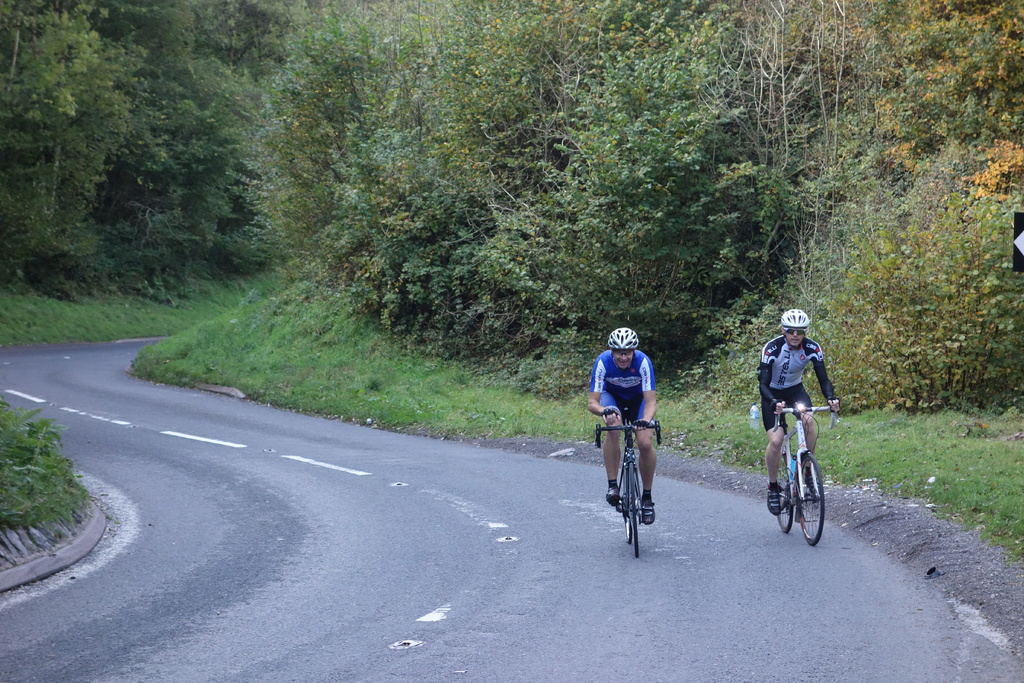Bike: (566, 422, 668, 568)
